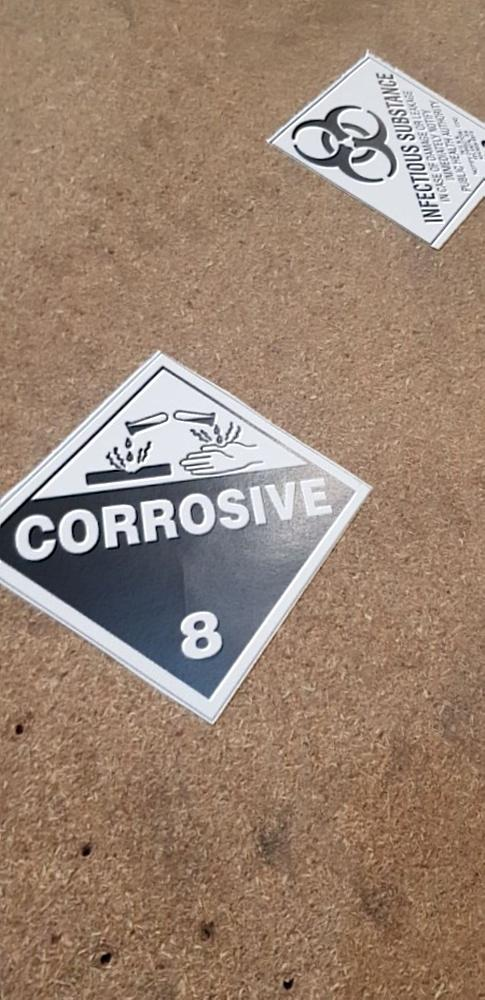corrosive: (1, 351, 385, 742)
infectious-substance: (263, 49, 485, 245)
